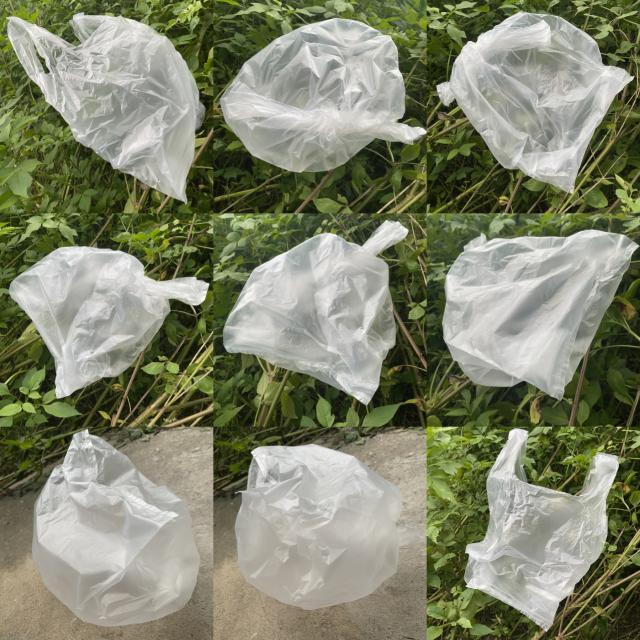Single-layer Plastic: (8, 14, 205, 201), (438, 12, 632, 191), (222, 221, 408, 404), (442, 230, 638, 399), (32, 430, 200, 626), (220, 19, 425, 172), (465, 429, 619, 629), (9, 246, 209, 398), (235, 445, 402, 610)
